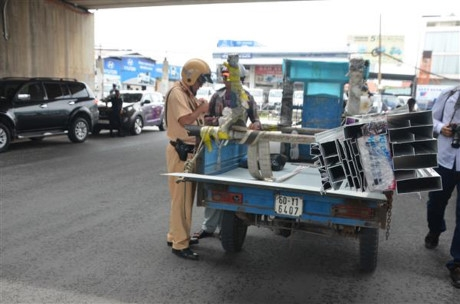police: (163, 55, 215, 263)
